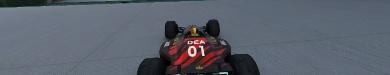Car: (136, 19, 260, 74)
